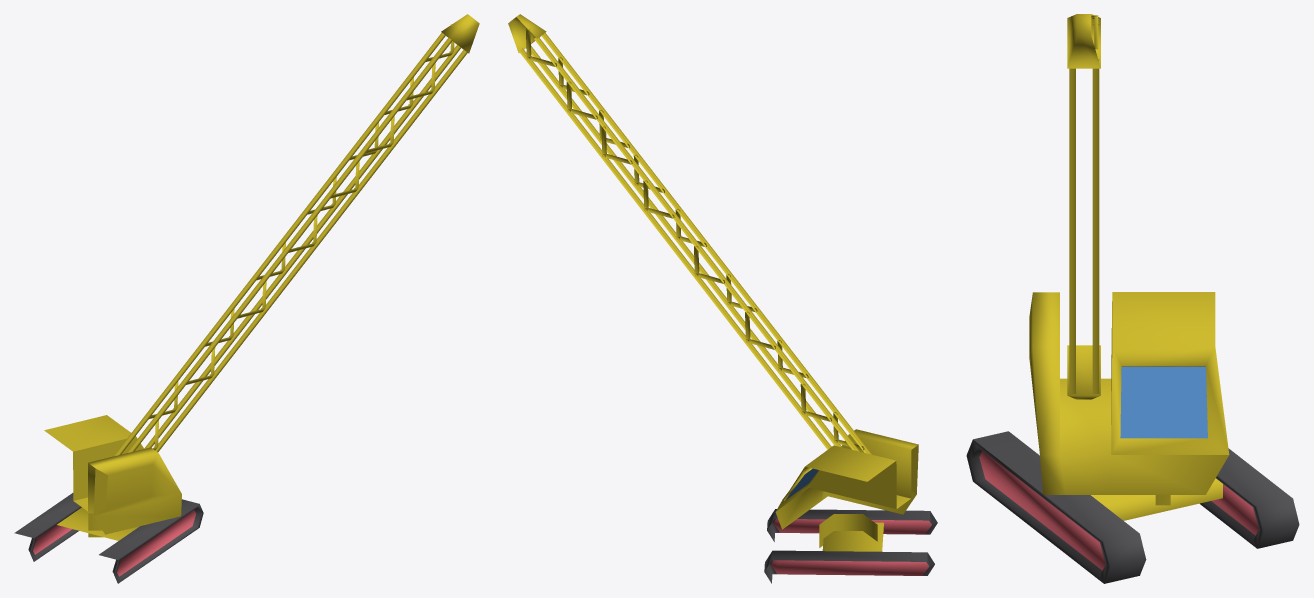
Rendered from WreckingCrane3.fbx.
3 views of the same model, side by side, from view 1: azimuth 30°, elevation 25°; view 2: azimuth 150°, elevation 25°; view 3: azimuth 270°, elevation 25° (orthographic). The views are drawn at different scales.
Visible parts, largest first — view 1: Cube; view 2: Cube; view 3: Cube.
Boxes of the visible parts, left/top/right/bottom form: Cube: left=14, top=14, right=479, bottom=583; Cube: left=508, top=14, right=937, bottom=583; Cube: left=966, top=14, right=1299, bottom=583.
Bounding box in the file's own units: 33.47 × 32.74 × 12.39.
